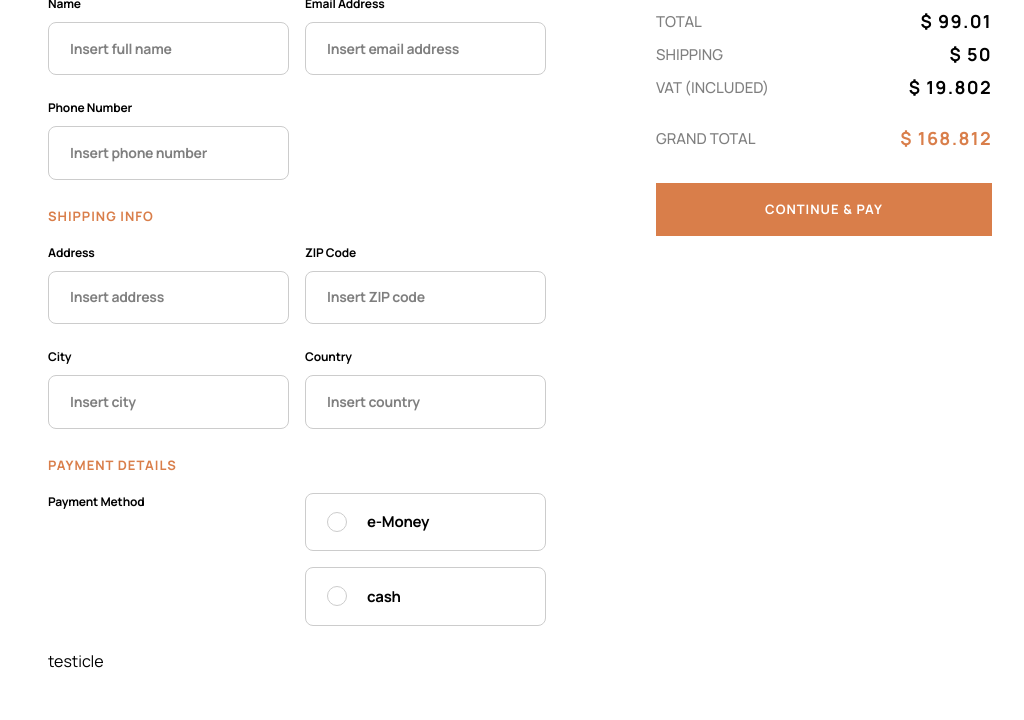
Test: Functionality › Clicking `cash` radio reveals img and text content
The image size is (1024, 720).
(page scrolled)
expect the text "The ‘Cash on Delivery’ option enables" is not shown: met
What coordinates should you click on to do the following:
click the radio button labelled "cash"
I would click on:
 (337, 596)
Its box is [327,586,347,606].
(page scrolled)
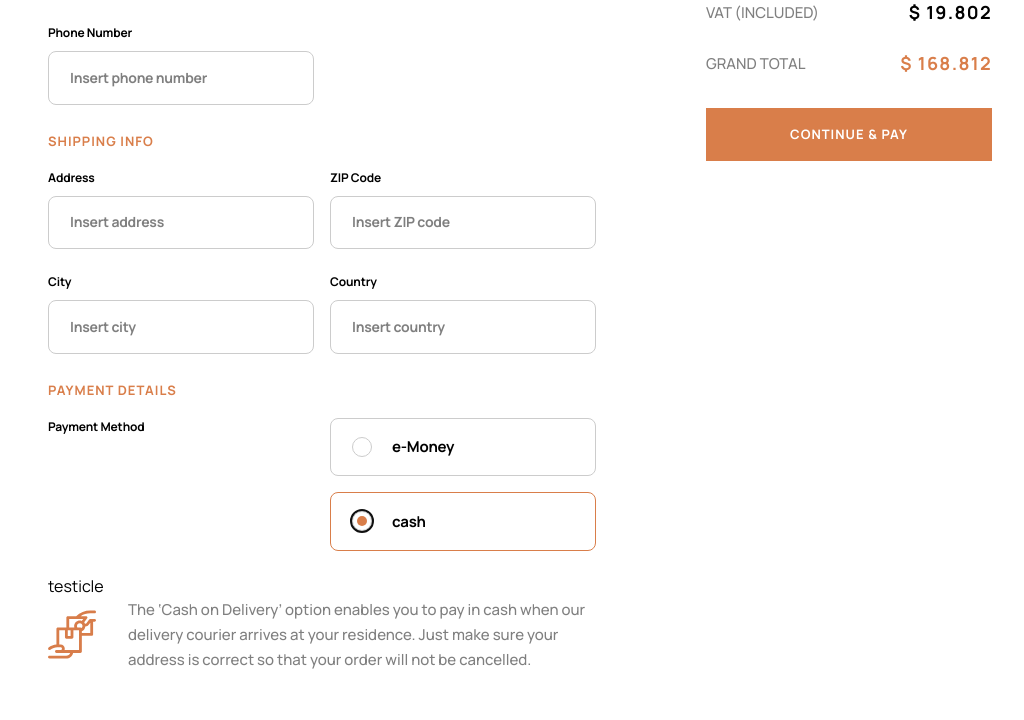
expect the text "The ‘Cash on Delivery’ option enables" is shown: met, box [128,598,585,670]
